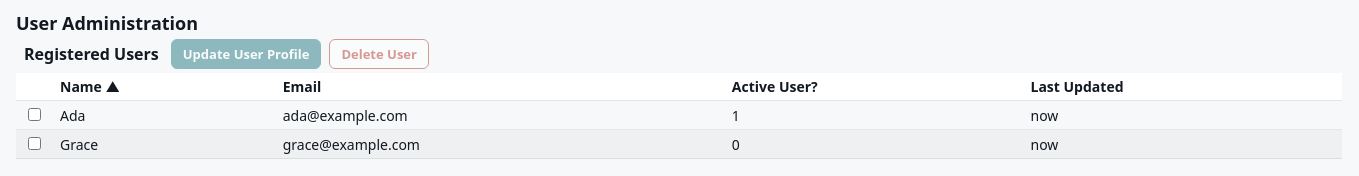
Scenario: the screen › gates both row buttons on a selected row
Expected: the text "ada@example.com" is shown, [275,100,724,130]
Expected: the button "Update User Profile" is disabled, [171,39,321,69]
Click the checkbox named "Select row 1" at (34, 114), box [28,108,41,121]
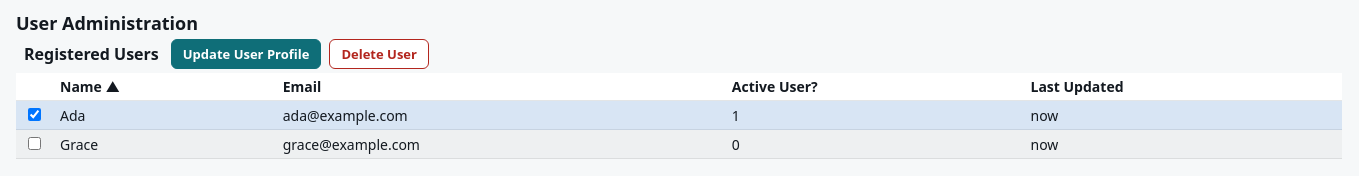
Result: the checkbox named "Select row 1" is checked at [28,108,41,121]
Result: the button "Update User Profile" is enabled at [171,39,321,69]
Result: the button "Delete User" is enabled at [329,39,429,69]
